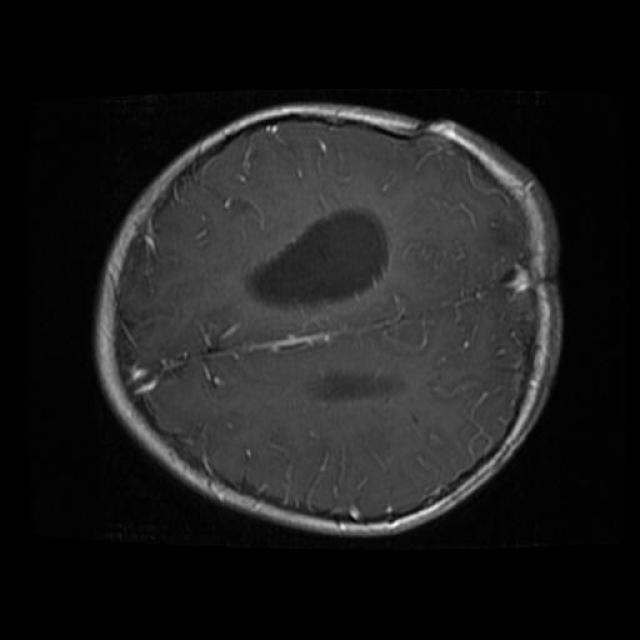Glioma: (247, 211, 388, 306)
